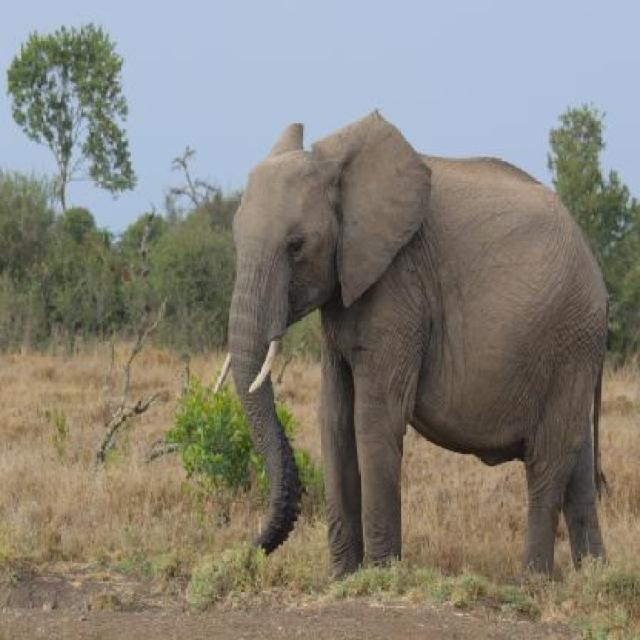Elephant: (210, 106, 619, 592)
